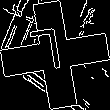L_S: (36, 27, 74, 83)
